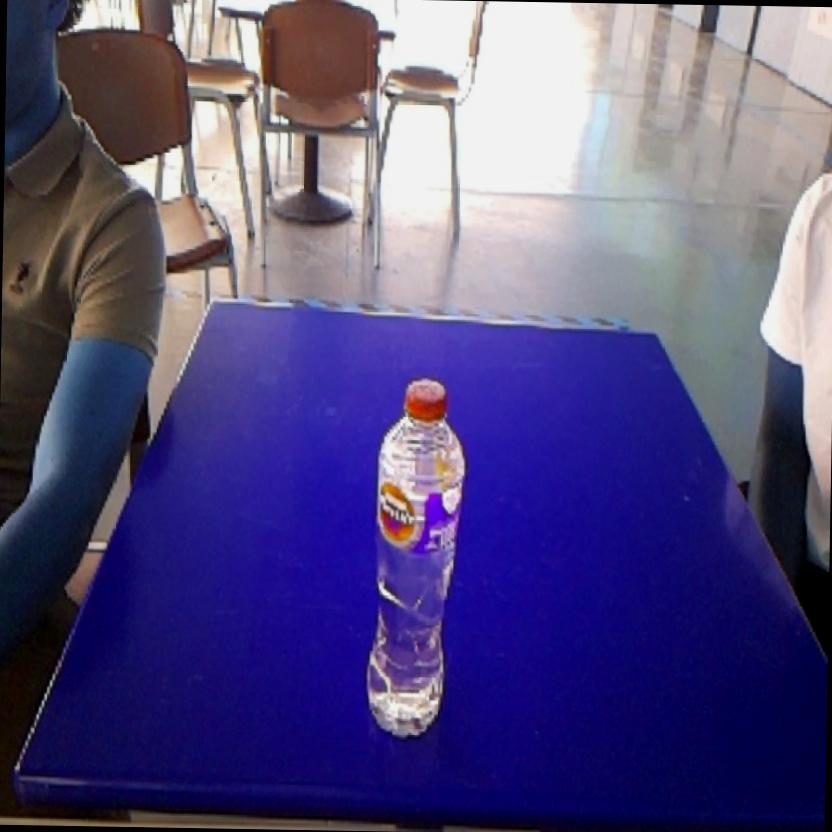good: (359, 364, 473, 748)
